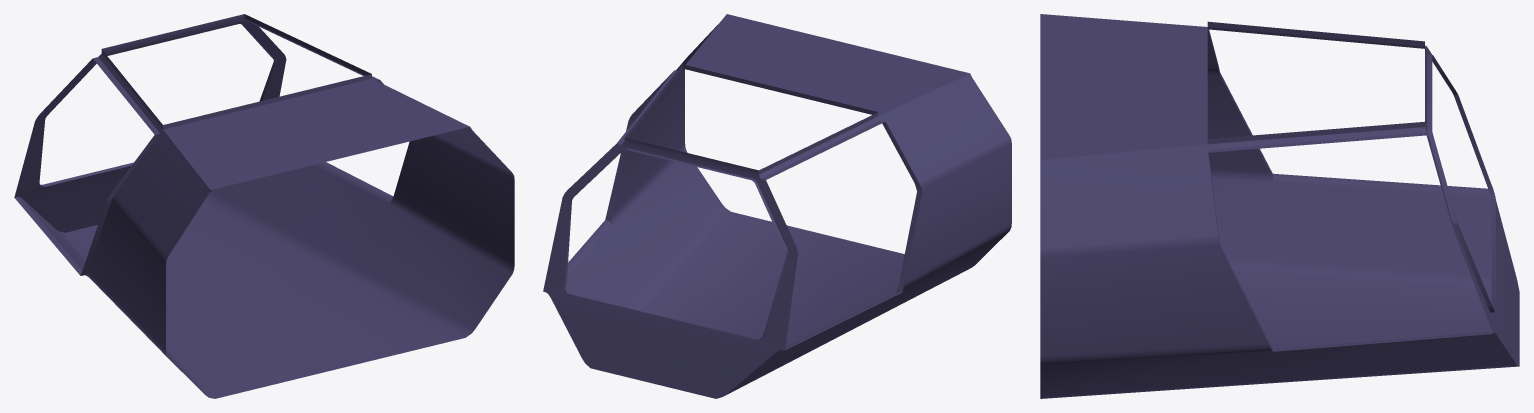
Rendered from Mh_RoomCapsule.fbx.
3 views of the same model, side by side, from view 1: azimuth 30°, elevation 25°; view 2: azimuth 150°, elevation 25°; view 3: azimuth 270°, elevation 25° (orthographic). The views are drawn at different scales.
Visible parts, largest first — view 1: Mh_RoomCapsule; view 2: Mh_RoomCapsule; view 3: Mh_RoomCapsule.
Part boxes in pixels (<box>): Mh_RoomCapsule: <box>14,14,514,398</box>; Mh_RoomCapsule: <box>543,14,1011,398</box>; Mh_RoomCapsule: <box>1040,14,1519,398</box>.
Bounding box in the file's own units: 678 × 401 × 701.
